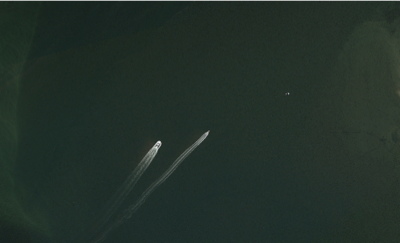boat: (154, 138, 163, 151), (202, 129, 212, 139)
